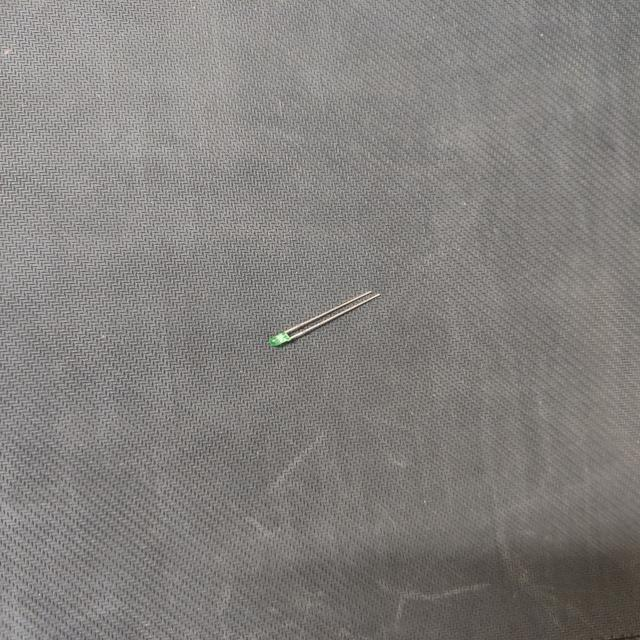led: (259, 282, 392, 354)
